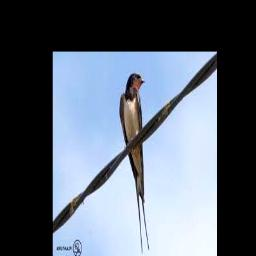Swallow: (119, 73, 149, 253)
